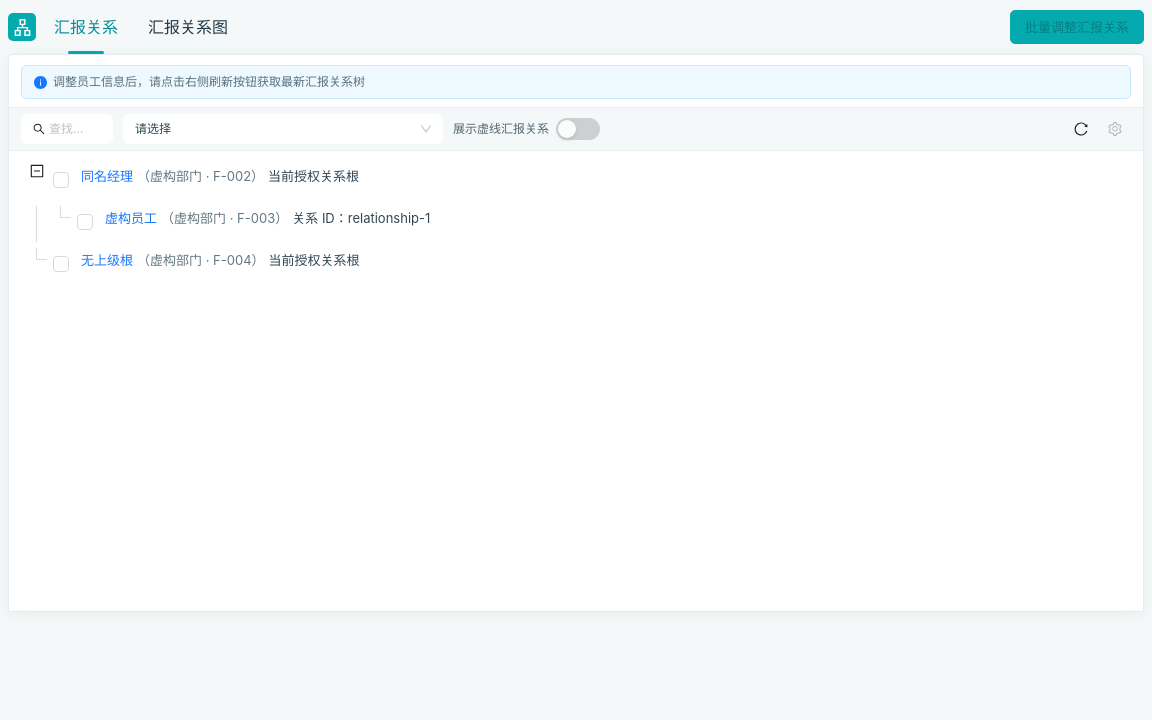
Test: ReportingLinesPage › does not use a paginated list response as the graph data source
Expected: the element that starts with "同名经理" is shown, [25, 164, 430, 280]
Click the button "汇报关系图": {"x": 188, "y": 27} [148, 0, 228, 54]
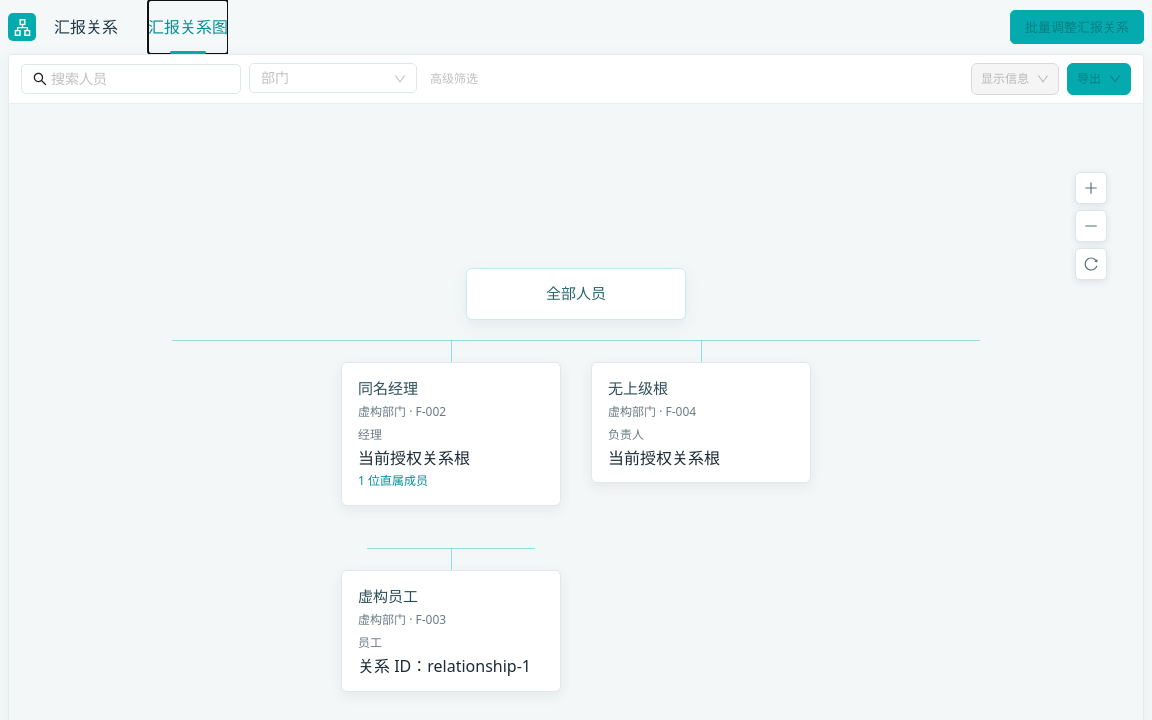
Expected: the heading "汇报关系图" is shown, [148, 13, 228, 41]
Expected: the text "全部人员" is shown, [466, 268, 686, 320]
